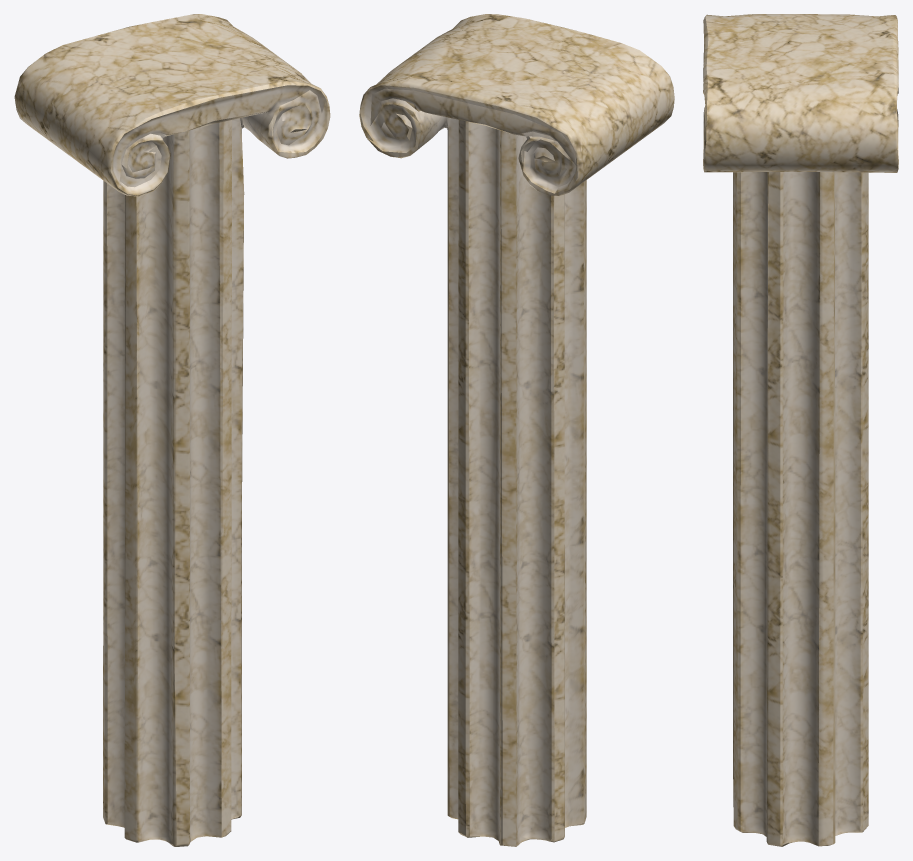
The model's file is greekPillar_edit_for_FBX.fbx.
3 renders of one model, left to right at view 1: azimuth 30°, elevation 25°; view 2: azimuth 150°, elevation 25°; view 3: azimuth 270°, elevation 25°, orthographic.
Parts seen in each view (by area): view 1: greekPillar; view 2: greekPillar; view 3: greekPillar.
Boxes of the visible parts, x1=… form: greekPillar: x1=14, y1=14, x2=330, y2=846; greekPillar: x1=359, y1=14, x2=674, y2=846; greekPillar: x1=703, y1=14, x2=898, y2=846.
Size of the model in its own units: 370 by 1193 by 274.
